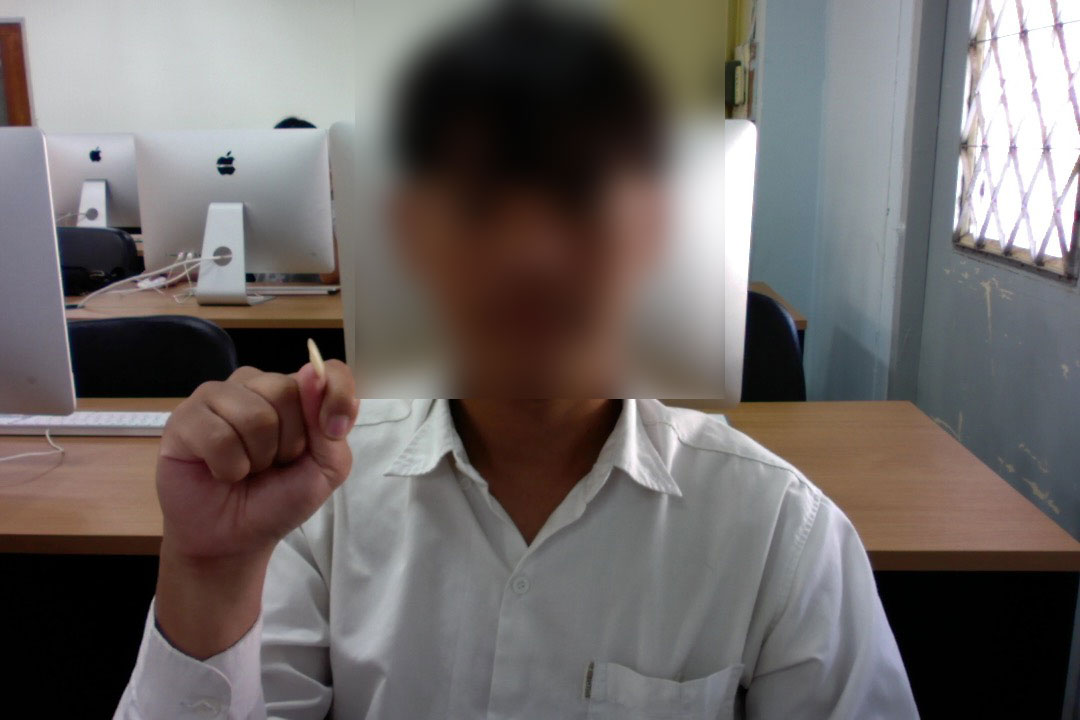tor: (149, 335, 362, 578)
